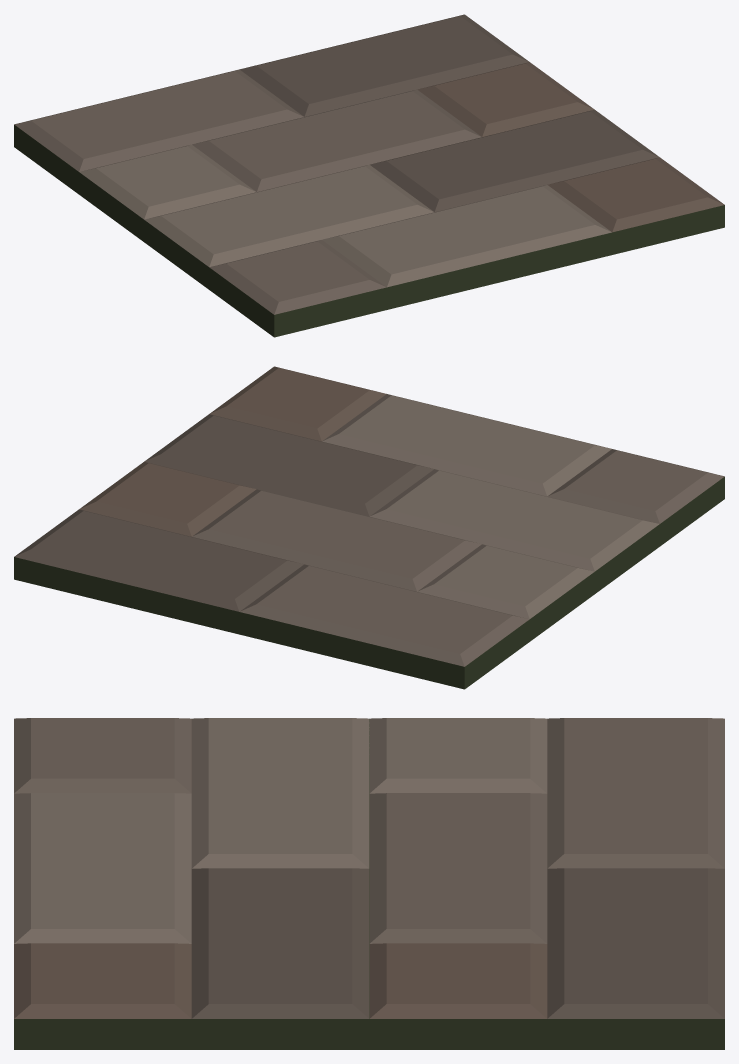
The model's file is boden_hofpflaster_a.glb.
3 renders of one model, top to bottom at view 1: azimuth 30°, elevation 25°; view 2: azimuth 150°, elevation 25°; view 3: azimuth 270°, elevation 25°, orthographic. The views are drawn at different scales.
Visible parts, largest first — view 1: boden_hofpflaster_a; view 2: boden_hofpflaster_a; view 3: boden_hofpflaster_a.
Part boxes in pixels (x1,y1,x2,y2): boden_hofpflaster_a: [14, 14, 724, 337]; boden_hofpflaster_a: [14, 366, 724, 689]; boden_hofpflaster_a: [14, 718, 724, 1049].
Bounding box in the file's own units: 1 × 0.06 × 1.
